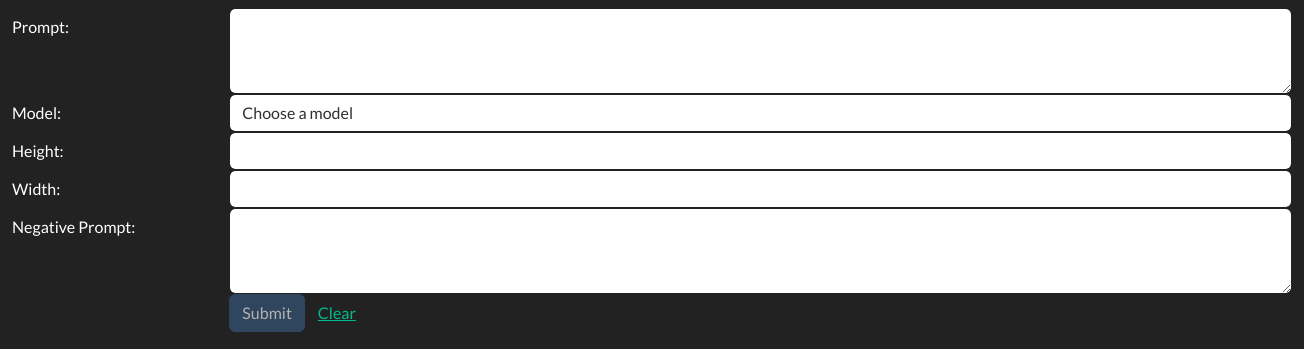
Test: FormComponent › should clear form data when Clear button is clicked
The width and height of the screenshot is (1304, 349).
In the text box labelled "Prompt:": [761, 51] box 229,8 -> 1292,94, type "Test Prompt"
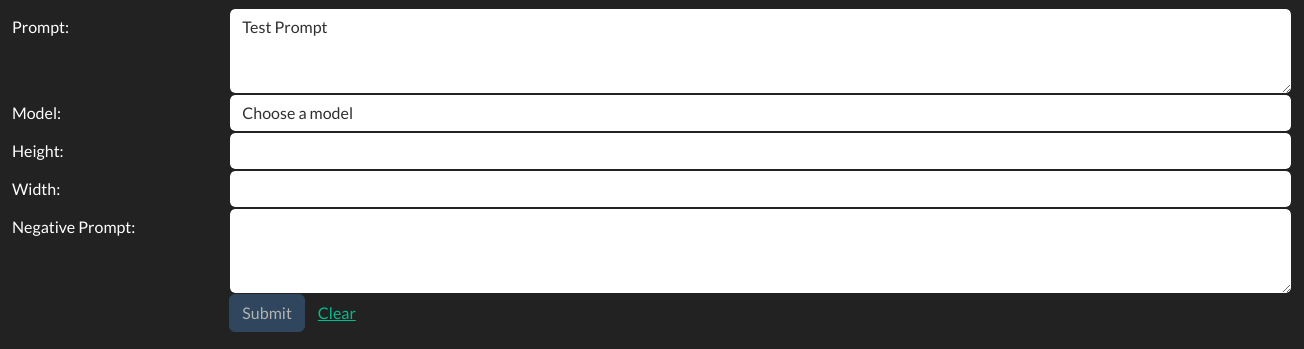
Select "Model 2" in the dropdown labelled "Model:": [761, 113] box 229,94 -> 1292,132
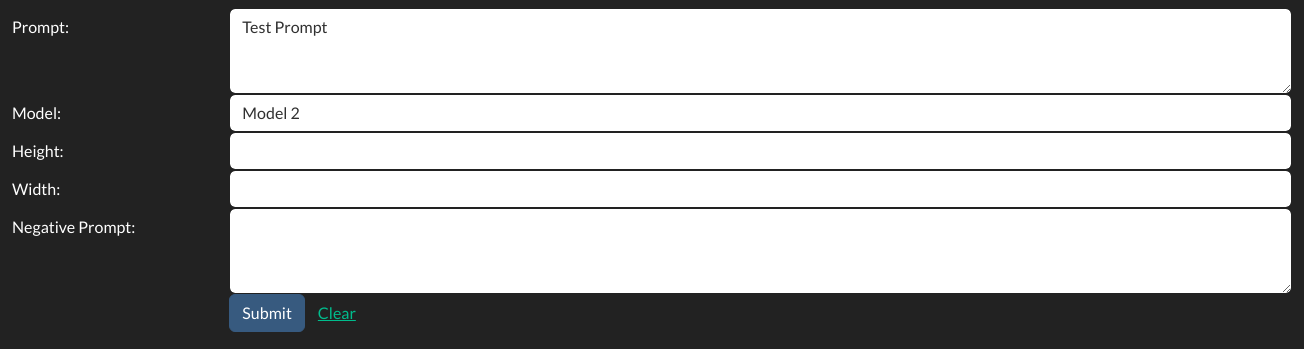
In the number field labelled "Height:": [761, 151] box 229,132 -> 1292,170, type "100"
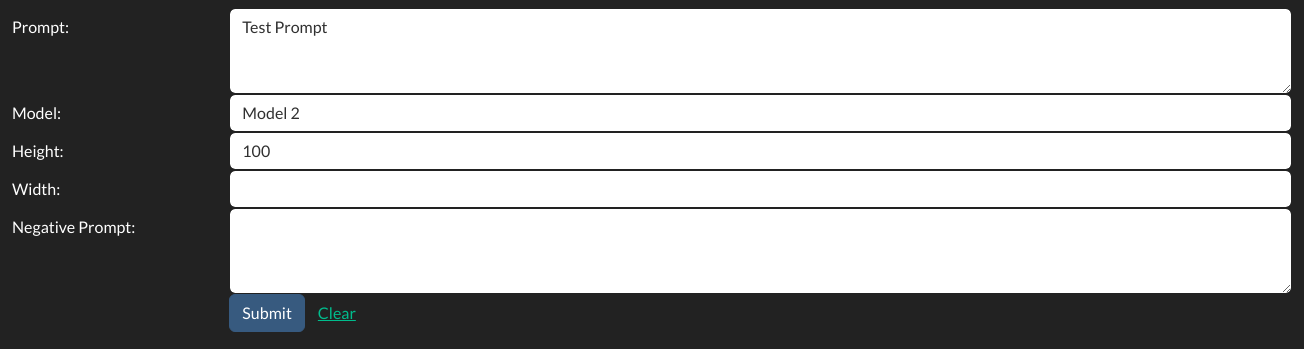
In the number field labelled "Width:": [761, 189] box 229,170 -> 1292,208, type "200"
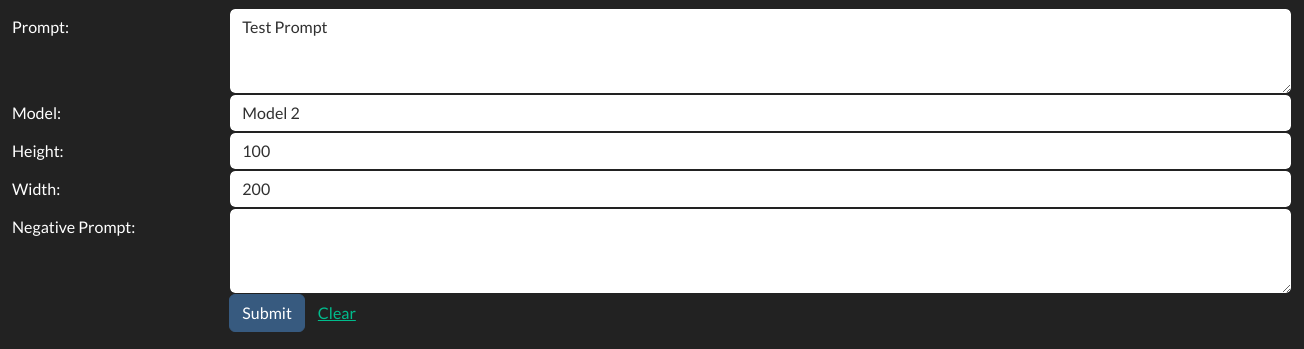
In the text box labelled "Negative Prompt:": [761, 251] box 229,208 -> 1292,294, type "Test Negative Prompt"
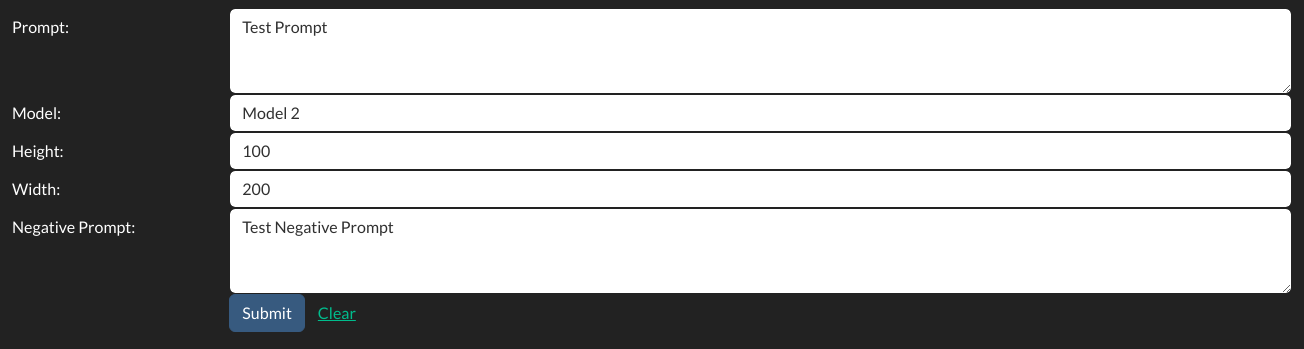
Click the button "Clear": [337, 313] box 305,294 -> 369,332
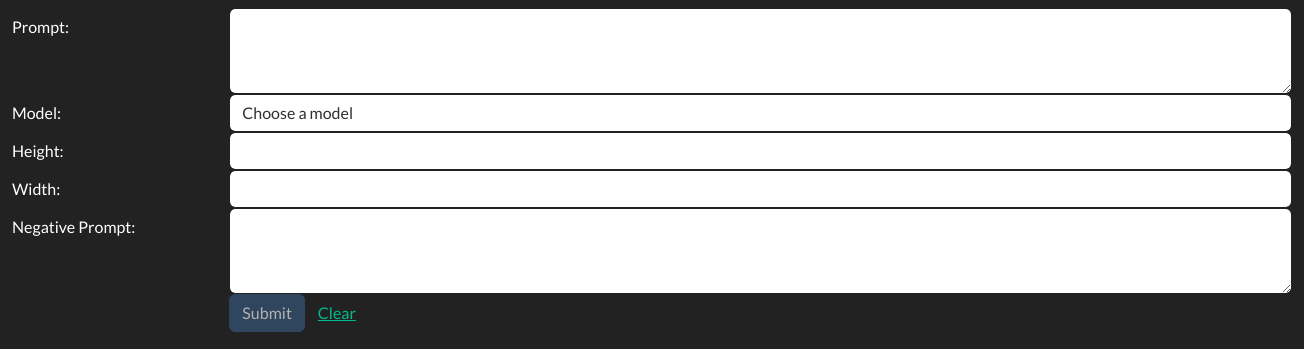
Result: the text box labelled "Prompt:" is empty at 229,8 -> 1292,94
Result: the number field labelled "Height:" is not empty at 229,132 -> 1292,170
Result: the number field labelled "Width:" is not empty at 229,170 -> 1292,208
